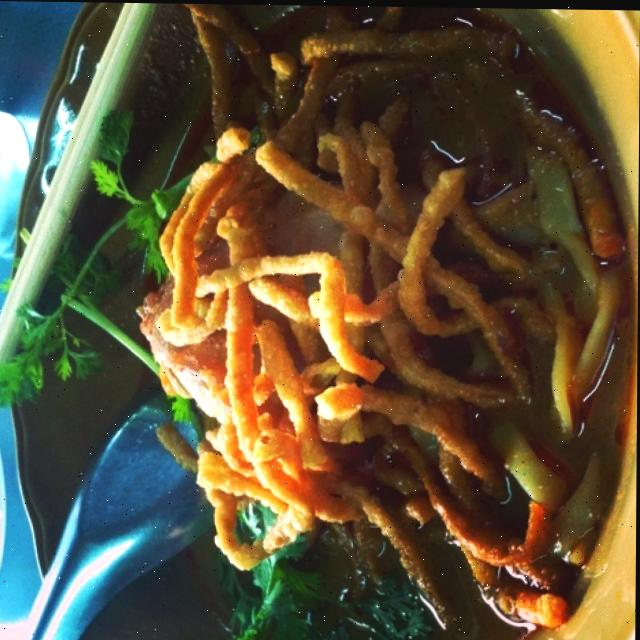面条主食: (87, 7, 637, 620)
